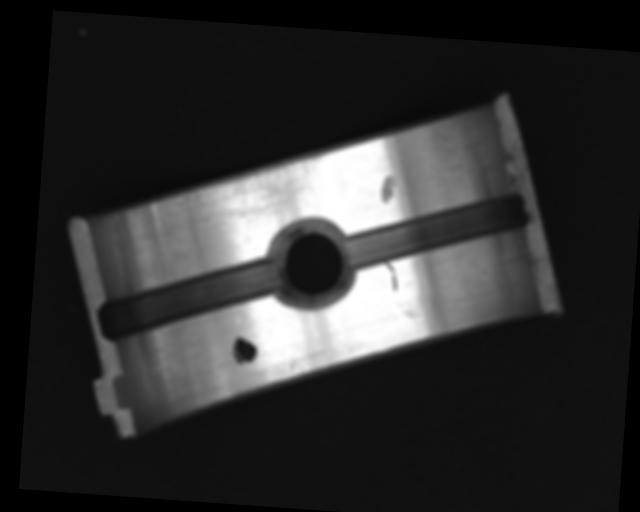blot: (230, 335, 258, 367)
bruise: (379, 172, 397, 206)
gap: (96, 250, 285, 350), (344, 181, 530, 278)
hole: (265, 215, 361, 309)
nick: (382, 261, 399, 291)
scratch: (171, 140, 330, 223)
